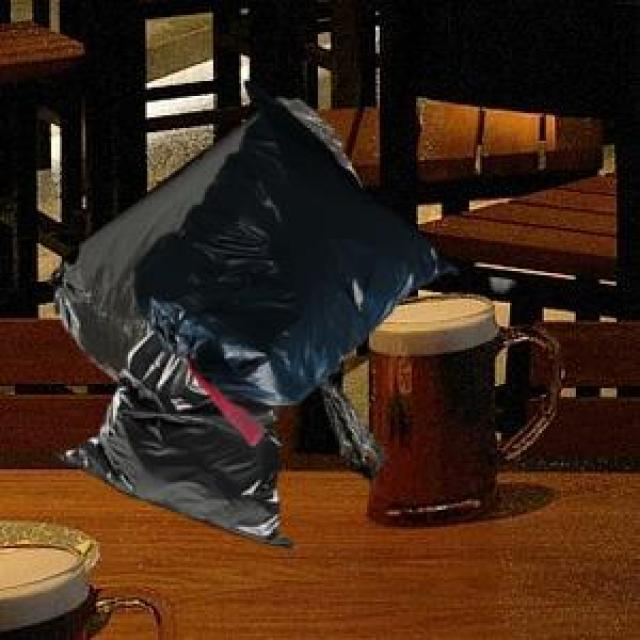miscellaneous trash: (45, 94, 382, 478), (130, 77, 452, 442), (53, 326, 292, 544)
